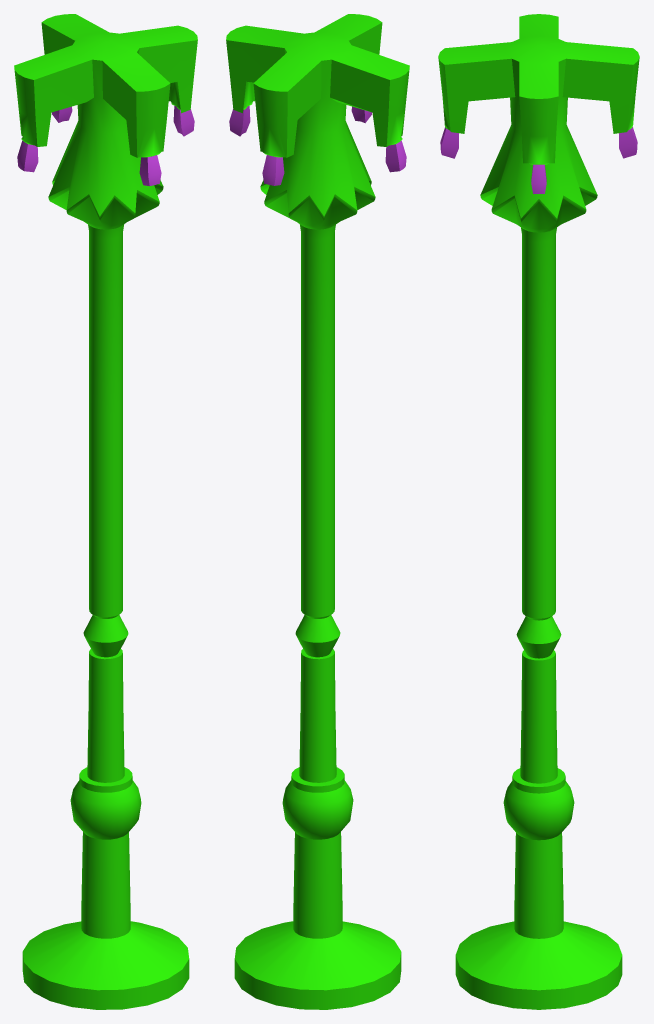
The model's file is lamp_lowpoly.fbx.
3 views of the same model, side by side, from view 1: azimuth 30°, elevation 25°; view 2: azimuth 150°, elevation 25°; view 3: azimuth 270°, elevation 25° (orthographic).
Visible parts, largest first — view 1: lampbody_low, lamphead_low, lampbulb_low; view 2: lampbody_low, lamphead_low, lampbulb_low; view 3: lampbody_low, lamphead_low, lampbulb_low.
Part boxes in pixels (<box>): lampbody_low: <box>22,224,189,1009</box>; lamphead_low: <box>14,14,197,229</box>; lampbulb_low: <box>17,105,194,186</box>; lampbody_low: <box>234,224,401,1009</box>; lamphead_low: <box>226,14,409,229</box>; lampbulb_low: <box>229,105,406,185</box>; lampbody_low: <box>455,227,622,1009</box>; lamphead_low: <box>438,14,639,232</box>; lampbulb_low: <box>440,127,637,193</box>.
Size of the model in its own units: 23.49 by 120 by 23.49.
